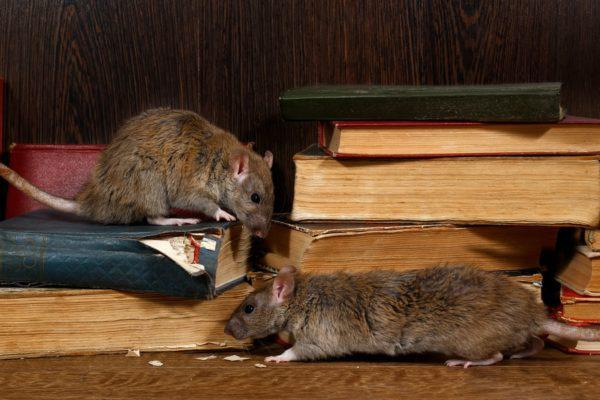rat: (222, 264, 600, 370), (0, 107, 273, 238)
